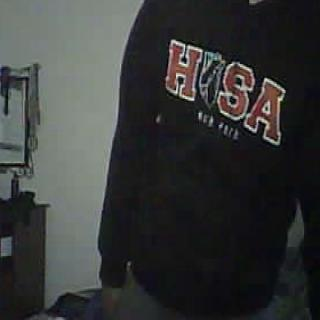HOSA Hoodie: (116, 0, 320, 295)
